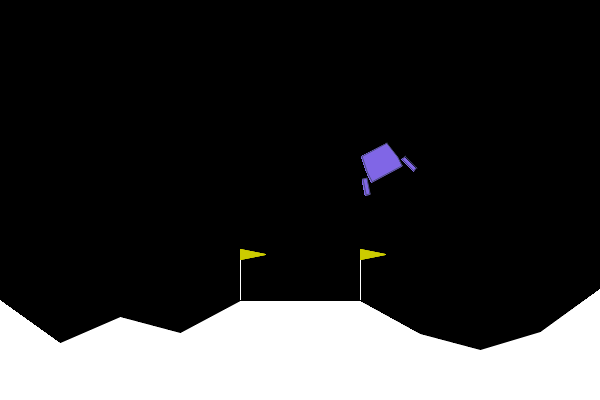lander: (347, 134, 418, 198)
